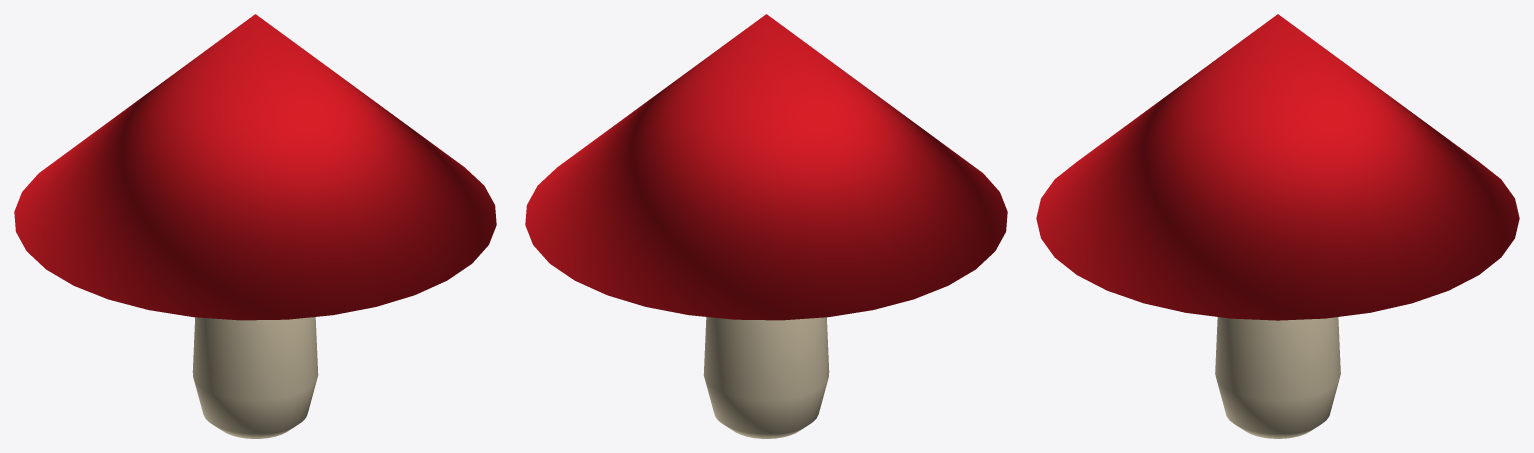
File: champi62.fbx
3 renders of one model, left to right at view 1: azimuth 30°, elevation 25°; view 2: azimuth 150°, elevation 25°; view 3: azimuth 270°, elevation 25°, orthographic.
Parts seen in each view (by area): view 1: Circle; view 2: Circle; view 3: Circle.
Boxes of the visible parts, x1,y1,x2,y2 form: Circle: (14, 14, 496, 438); Circle: (525, 14, 1007, 438); Circle: (1036, 14, 1519, 438).
Size of the model in its own units: 214 by 200 by 214.
